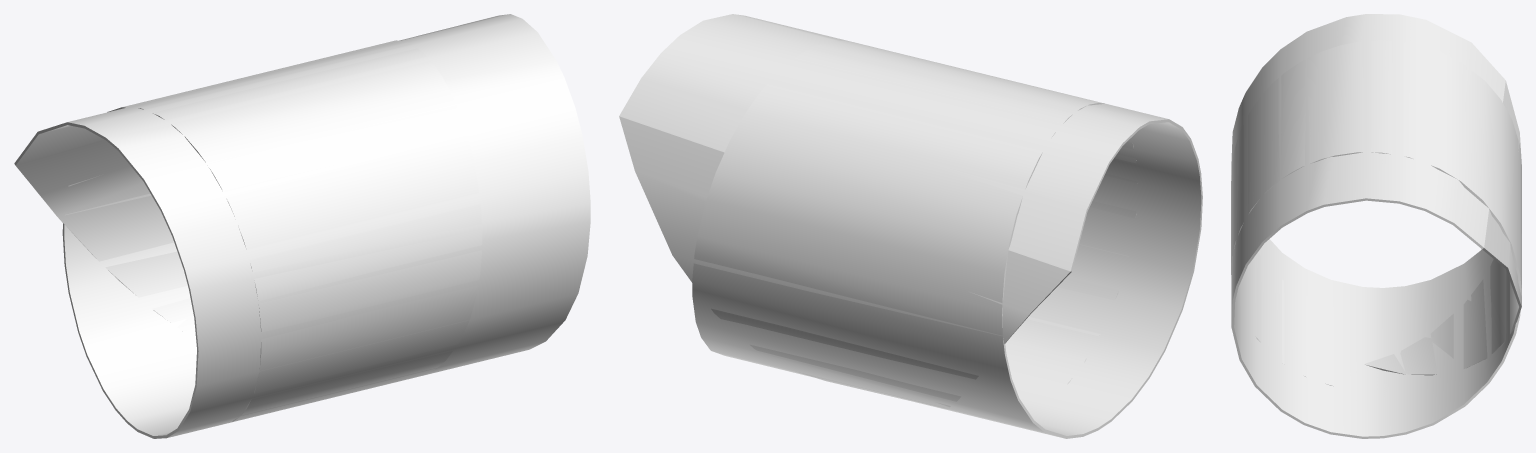
File: Level 191 unroll tie.fbx
3 views of the same model, side by side, from view 1: azimuth 30°, elevation 25°; view 2: azimuth 150°, elevation 25°; view 3: azimuth 270°, elevation 25° (orthographic). The views are drawn at different scales.
Parts seen in each view (by area): view 1: Blend; view 2: Blend; view 3: Blend.
Part boxes in pixels (x1,y1,x2,y2): Blend: [14, 14, 590, 438]; Blend: [619, 14, 1202, 438]; Blend: [1231, 14, 1521, 438].
Size of what is drawn, in the model's own units: 180 by 113 by 113.
